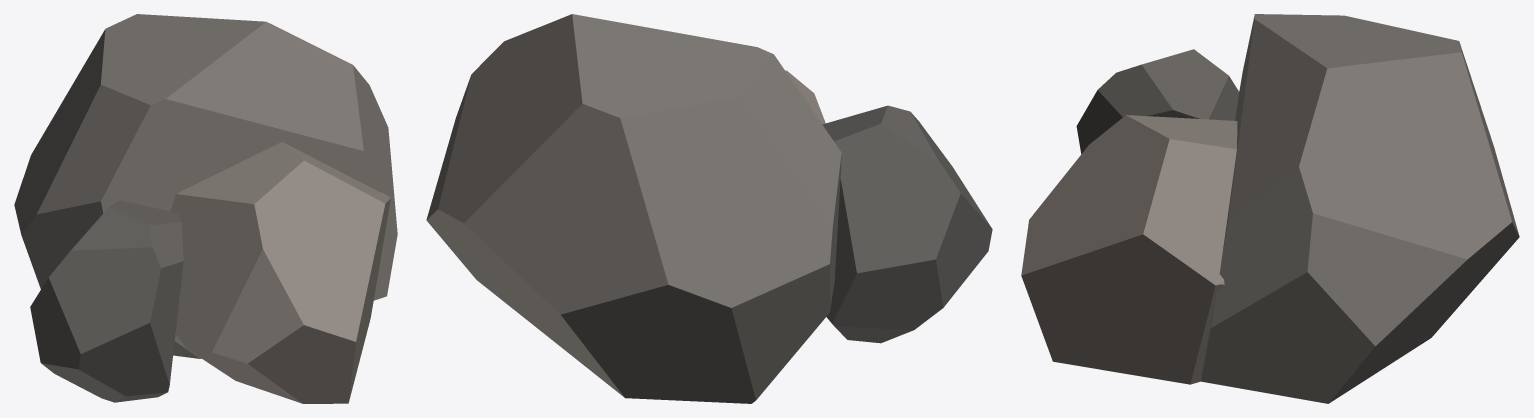
File: boulder1.fbx
3 views of the same model, side by side, from view 1: azimuth 30°, elevation 25°; view 2: azimuth 150°, elevation 25°; view 3: azimuth 270°, elevation 25° (orthographic). The views are drawn at different scales.
Parts seen in each view (by area): view 1: Boulder1; view 2: Boulder1; view 3: Boulder1.
Boxes of the visible parts, x1,y1,x2,y2 form: Boulder1: (14,14,397,403); Boulder1: (426,14,992,403); Boulder1: (1021,14,1519,403).
Size of the model in its own units: 1.79 by 1.26 by 1.75.
